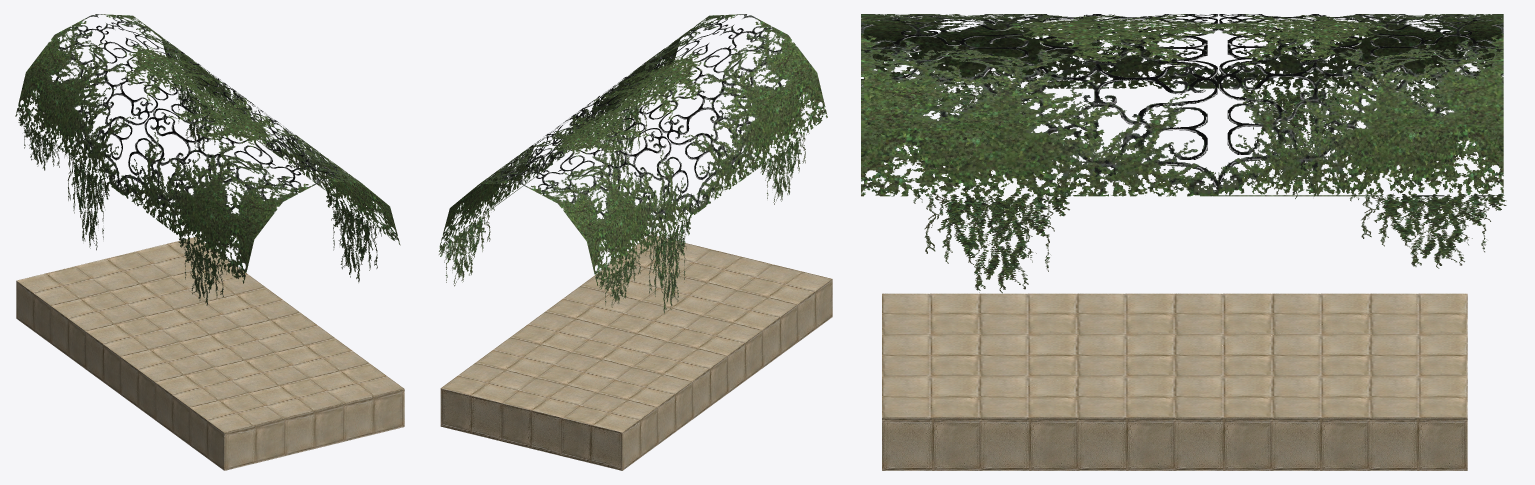
File: thm_nboo_imprv_arbor_long_s02_l0.fbx
3 views of the same model, side by side, from view 1: azimuth 30°, elevation 25°; view 2: azimuth 150°, elevation 25°; view 3: azimuth 270°, elevation 25° (orthographic). The views are drawn at different scales.
Visible parts, largest first — view 1: mesh_node; view 2: mesh_node; view 3: mesh_node.
Boxes of the visible parts, box(x1,y1,x2,y2) form: mesh_node: box(15, 14, 404, 470); mesh_node: box(439, 14, 832, 470); mesh_node: box(861, 14, 1506, 470).
Size of the model in its own units: 4 by 5.79 by 9.01.
3 materials, 3 textured.
